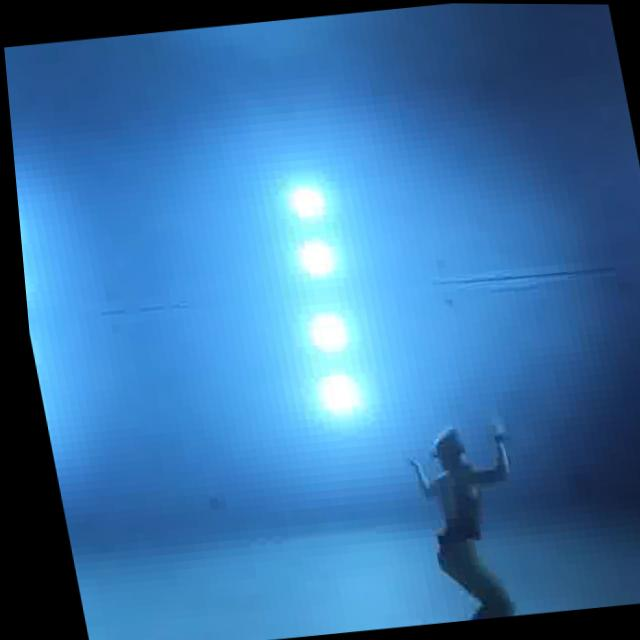human: (390, 408, 531, 623)
